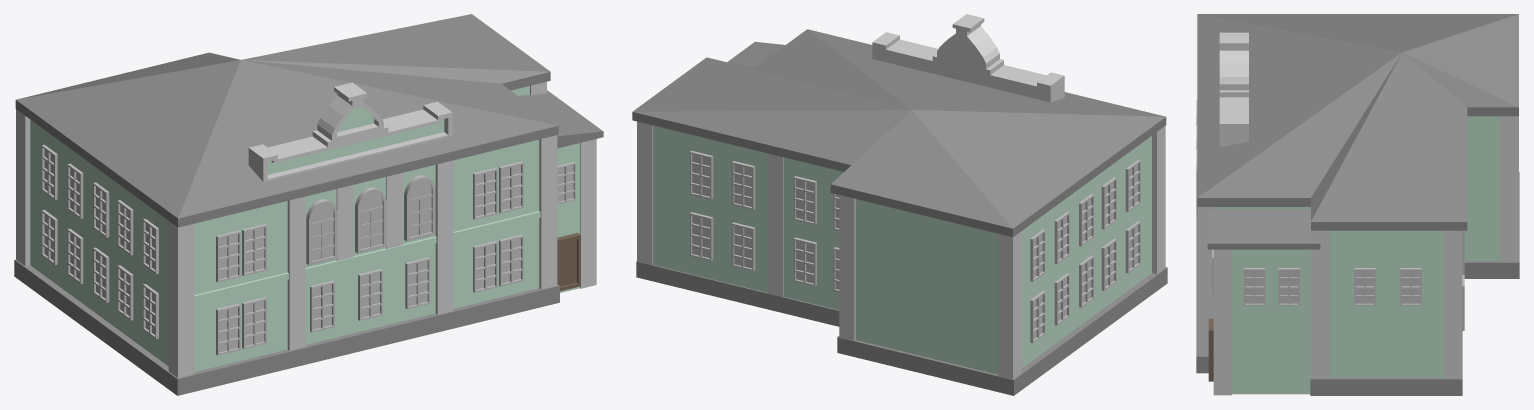
File: vostrotin.glb
3 views of the same model, side by side, from view 1: azimuth 30°, elevation 25°; view 2: azimuth 150°, elevation 25°; view 3: azimuth 270°, elevation 25° (orthographic). The views are drawn at different scales.
Visible parts, largest first — view 1: Cube.006, Cube, Cube.045, Cube.013, Cube.007, Cube.019, Cube.004, Cube.034; view 2: Cube.006, Cube, Cube.045, Cube.013, Cube.007, Cube.019, Cube.004; view 3: Cube.006, Cube, Cube.013, Cube.007, Cube.004, Cube.045, Cube.019, Cube.034.
Boxes of the visible parts, x1,y1,x2,y2 form: Cube.006: (15,14,558,227); Cube: (30,86,579,372); Cube.045: (41,144,575,355); Cube.013: (16,81,596,377); Cube.007: (14,259,559,395); Cube.019: (248,82,452,181); Cube.004: (518,90,603,148); Cube.034: (557,232,580,291); Cube.006: (632,29,1166,237); Cube: (653,125,1151,374); Cube.045: (689,150,1140,343); Cube.013: (637,121,1165,379); Cube.007: (636,261,1167,395); Cube.019: (872,14,1064,102); Cube.004: (727,41,784,68); Cube.006: (1197,14,1518,230); Cube: (1216,116,1500,394); Cube.013: (1198,116,1518,395); Cube.007: (1196,172,1519,395); Cube.004: (1207,210,1320,249); Cube.045: (1196,100,1464,330); Cube.019: (1219,32,1248,147); Cube.034: (1208,318,1213,381).
Bounding box in the file's own units: 2.67 × 1.45 × 1.75.
